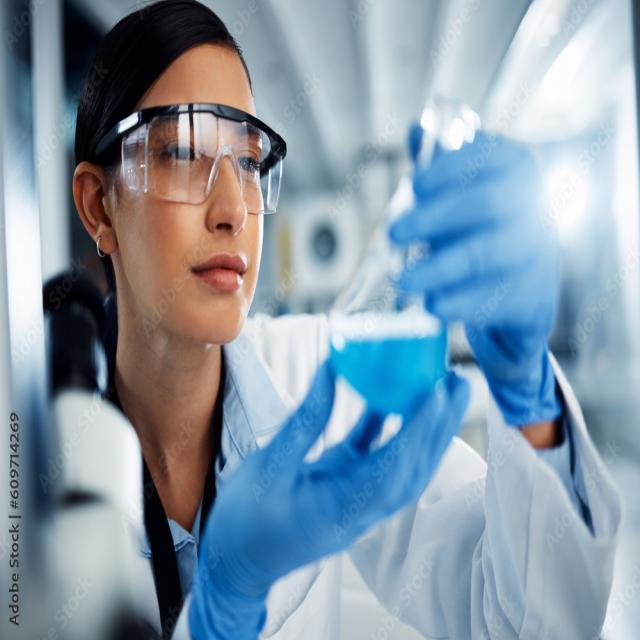Goggles: (107, 98, 297, 220), (116, 218, 271, 344)
